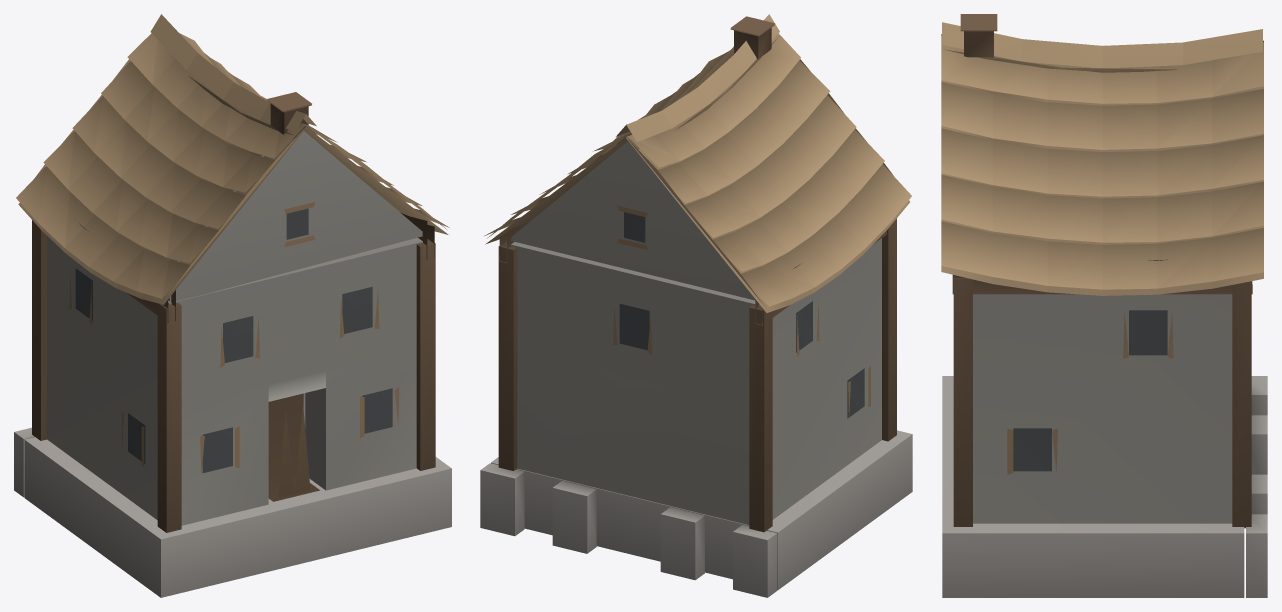
Rendered from tavern.lod.glb.
The picture shows the model from 3 angles, left to right: view 1: azimuth 30°, elevation 25°; view 2: azimuth 150°, elevation 25°; view 3: azimuth 270°, elevation 25°; orthographic projection. The views are drawn at different scales.
Visible parts, largest first — view 1: tavern; view 2: tavern; view 3: tavern.
Boxes of the visible parts, x1,y1,x2,y2 form: tavern: (14,14,451,597); tavern: (480,14,912,597); tavern: (941,14,1267,597).
Size of the model in its own units: 7.99 by 11.74 by 6.98.
